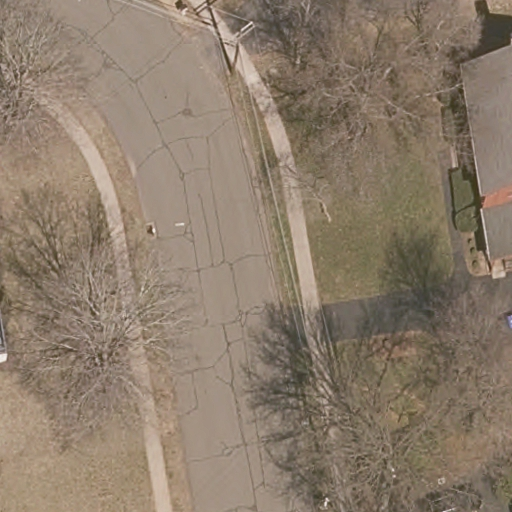DT: (227, 19, 256, 76)
